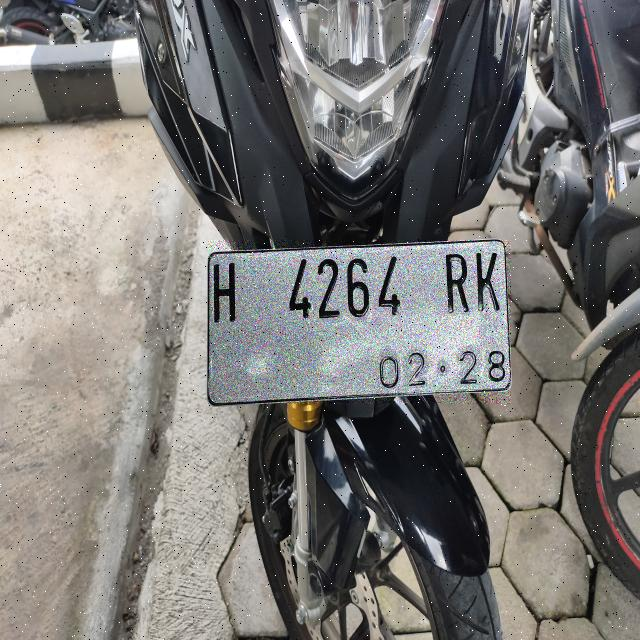plate: (208, 240, 510, 403)
